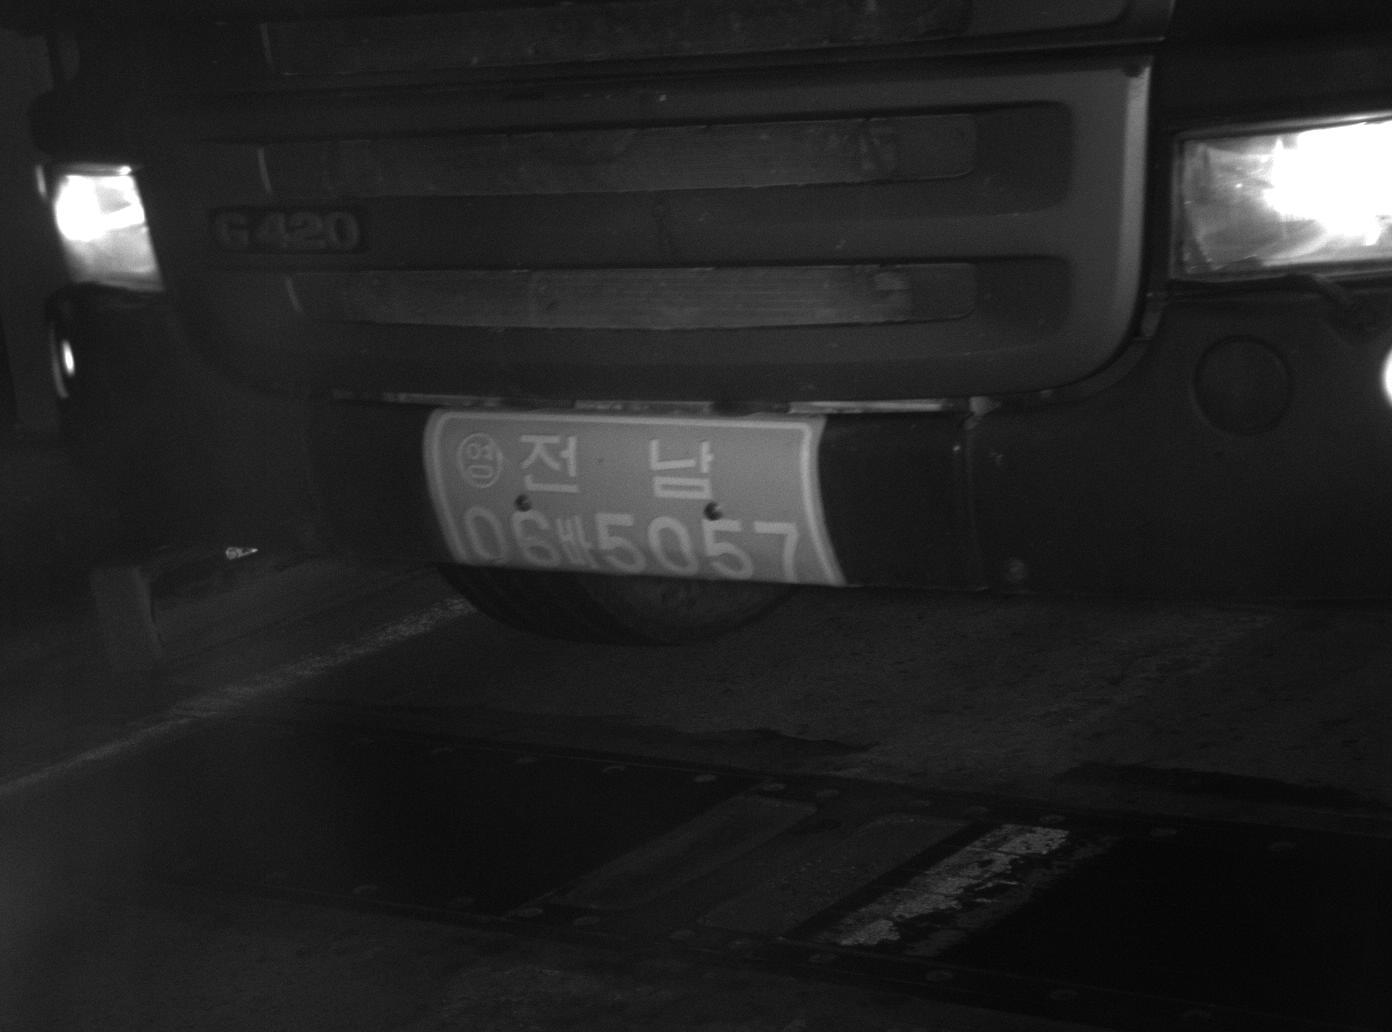car: (1, 1, 1389, 648)
plate: (419, 406, 854, 596)
